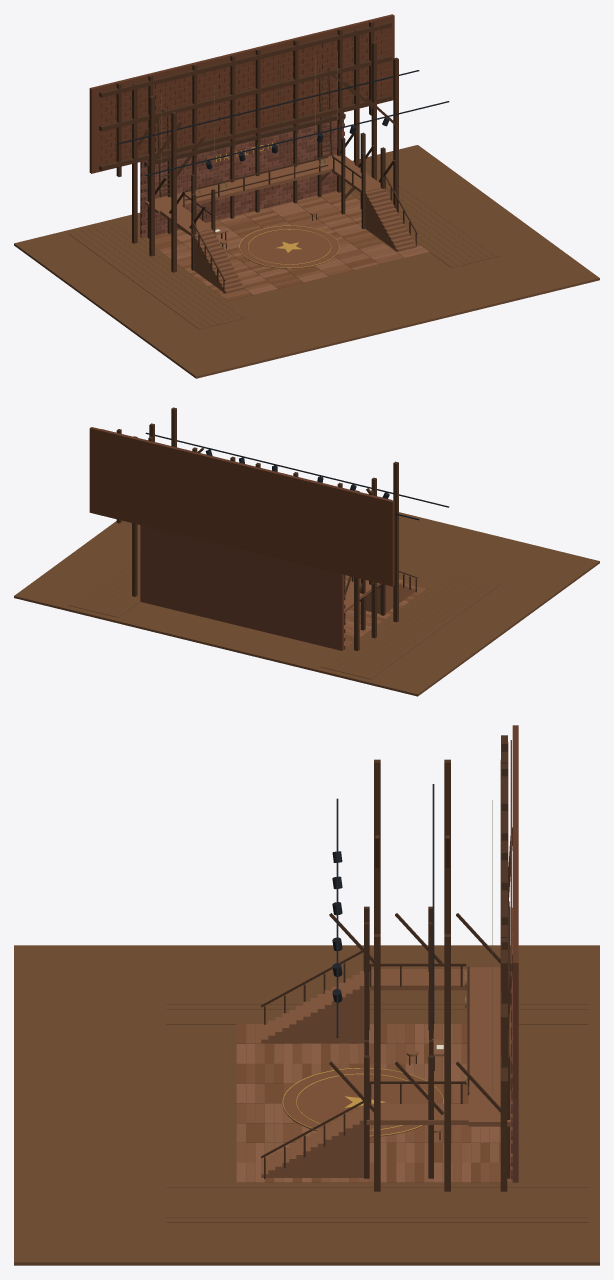
File: hamilton-stage.glb
3 renders of one model, top to bottom at view 1: azimuth 30°, elevation 25°; view 2: azimuth 150°, elevation 25°; view 3: azimuth 270°, elevation 25°, orthographic. The views are drawn at different scales.
Parts seen in each view (by area): view 1: Stage_Open_Floor, Stage_Open_OldBrick, Stage_Open_Timber, Stage_Stage_Oak2, Stage_Stage_Beams, Stage_Stage_Oak1, Stage_Stage_Oak0, Stage_Stage_Brick0, Stage_Stage_Oak4, Stage_Stage_Brick3, Stage_Stage_Oak3, Stage_Stage_Brick1 (+4 smaller); view 2: Stage_Open_Floor, Stage_Open_OldBrick, Stage_Stage_Brick0, Stage_Open_Timber, Stage_Stage_Oak2, Stage_Open_Iron, Stage_Stage_Beams; view 3: Stage_Open_Floor, Stage_Stage_Oak2, Stage_Open_Timber, Stage_Stage_Oak1, Stage_Stage_Beams, Stage_Stage_Oak4, Stage_Stage_Oak3, Stage_Stage_Oak0, Stage_Open_OldBrick, Stage_Open_Iron, Stage_Stage_Gold.
Boxes of the visible parts, x1,y1,x2,y2 form: Stage_Open_Floor: (14, 145, 599, 378); Stage_Open_OldBrick: (89, 14, 394, 173); Stage_Open_Timber: (99, 21, 398, 272); Stage_Stage_Oak2: (145, 155, 416, 298); Stage_Stage_Beams: (144, 113, 417, 293); Stage_Stage_Oak1: (147, 191, 380, 294); Stage_Stage_Oak0: (142, 196, 420, 301); Stage_Stage_Brick0: (140, 112, 344, 236); Stage_Stage_Oak4: (170, 195, 429, 294); Stage_Stage_Brick3: (141, 121, 336, 238); Stage_Stage_Oak3: (161, 198, 426, 285); Stage_Stage_Brick1: (141, 118, 344, 230); Stage_Open_Floor: (14, 512, 599, 696); Stage_Open_OldBrick: (89, 427, 394, 586); Stage_Stage_Brick0: (140, 525, 345, 650); Stage_Open_Timber: (101, 407, 398, 650); Stage_Stage_Oak2: (217, 578, 426, 638); Stage_Open_Iron: (145, 432, 449, 520); Stage_Stage_Beams: (344, 571, 417, 630); Stage_Open_Floor: (14, 945, 599, 1265); Stage_Stage_Oak2: (236, 967, 510, 1182); Stage_Open_Timber: (374, 735, 512, 1191); Stage_Stage_Oak1: (236, 1024, 512, 1182); Stage_Stage_Beams: (261, 901, 510, 1178); Stage_Stage_Oak4: (236, 1024, 510, 1182); Stage_Stage_Oak3: (236, 1024, 510, 1182); Stage_Stage_Oak0: (236, 1024, 489, 1182); Stage_Open_OldBrick: (510, 725, 518, 1098); Stage_Open_Iron: (332, 784, 434, 1037); Stage_Stage_Gold: (282, 1068, 443, 1136).
Size of the model in its own units: 32 by 12.82 by 25.
